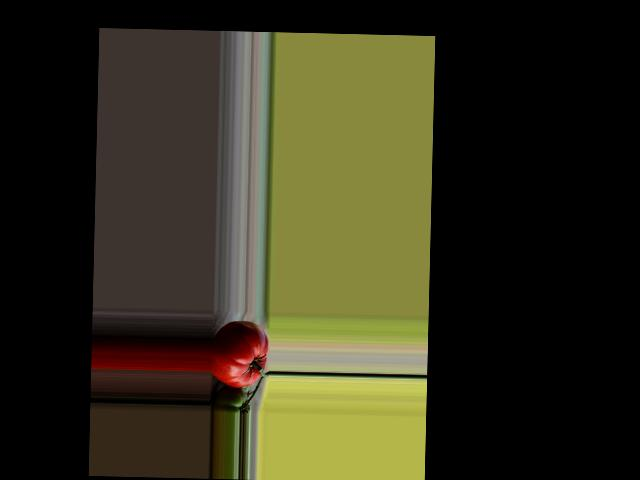tomato: (209, 319, 268, 387)
